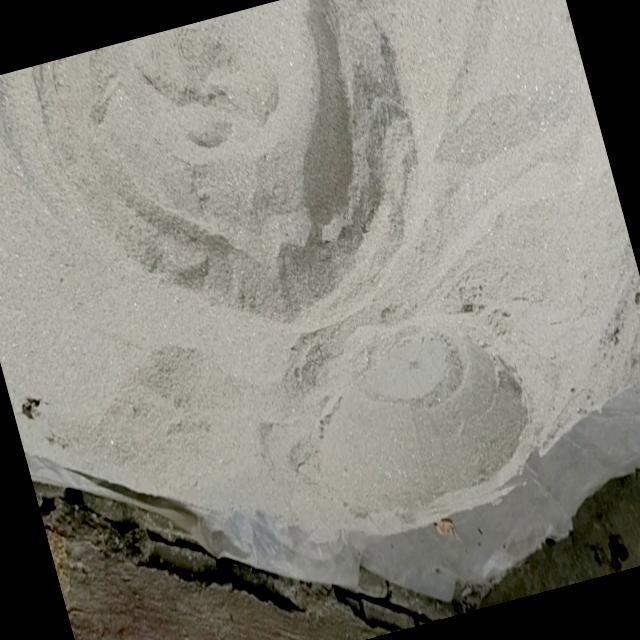C20: (48, 1, 389, 260), (307, 332, 528, 526)
